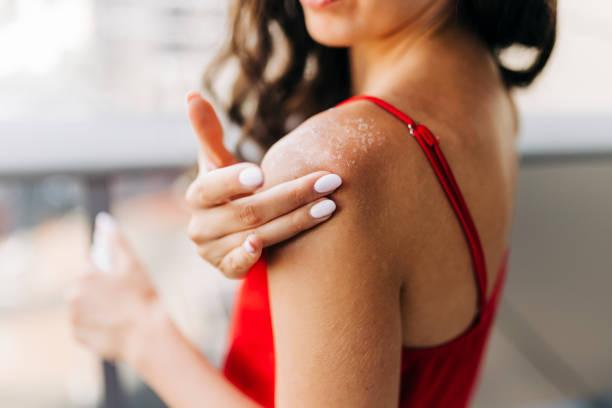Dry-Skin: (299, 109, 408, 181)
